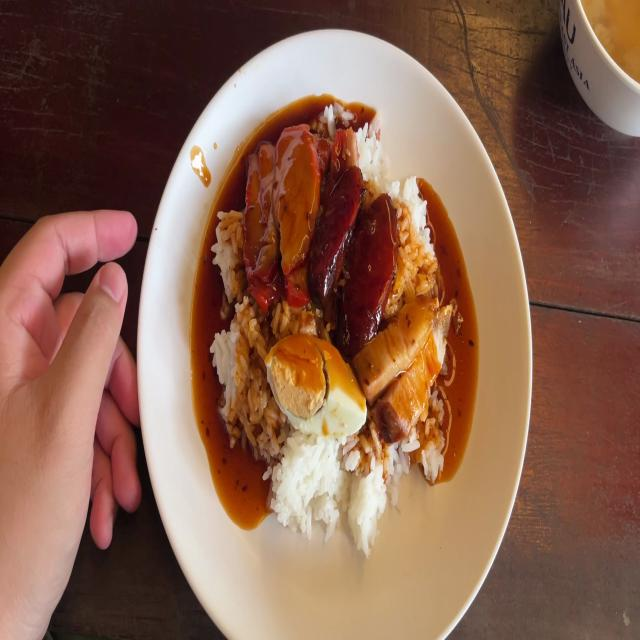01boiled_egg: (268, 338, 362, 434)
01chainese_sausage: (315, 172, 394, 327), (353, 208, 400, 338), (319, 175, 363, 292)
01crispy_pork: (365, 298, 456, 430)
01red_pork: (244, 128, 312, 300), (272, 121, 311, 274), (244, 141, 277, 292)
01red_pork_and_crispy_pork: (213, 107, 440, 532)
01rice: (216, 206, 262, 420), (258, 414, 336, 518), (354, 422, 390, 530)
